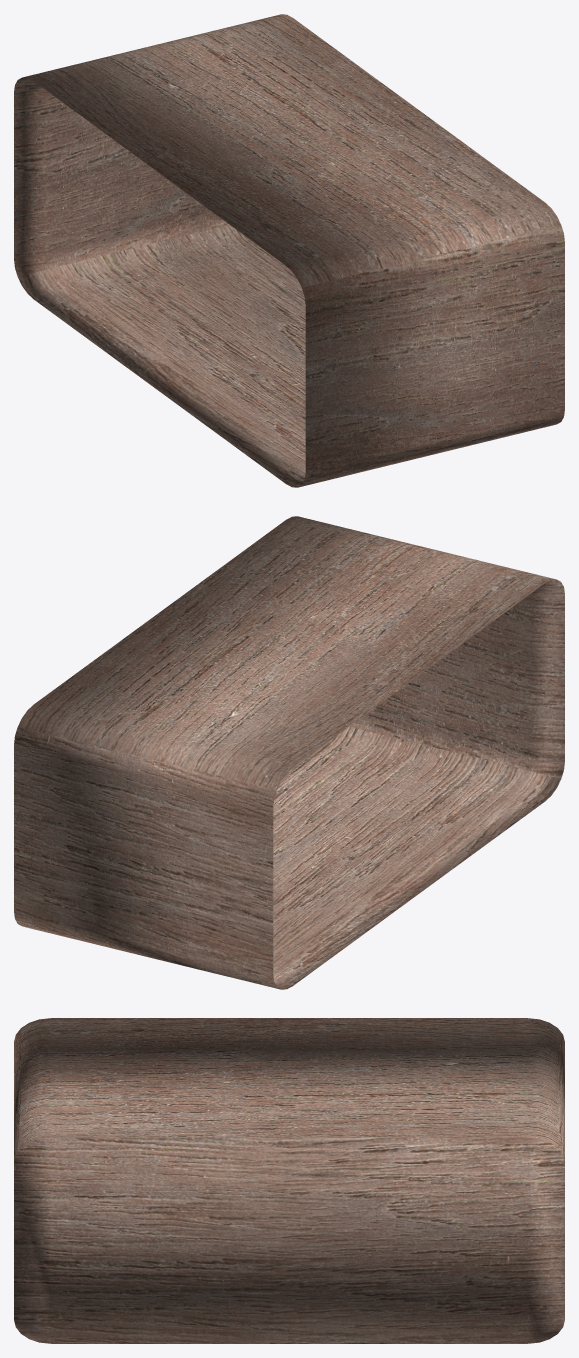
File: shelf001.glb
3 views of the same model, one above another, from view 1: azimuth 30°, elevation 25°; view 2: azimuth 150°, elevation 25°; view 3: azimuth 270°, elevation 25° (orthographic). The views are drawn at different scales.
Visible parts, largest first — view 1: Shelf001Prebake; view 2: Shelf001Prebake; view 3: Shelf001Prebake.
Part boxes in pixels (left/top/right/bottom): Shelf001Prebake: left=14, top=14, right=564, bottom=487; Shelf001Prebake: left=14, top=516, right=564, bottom=989; Shelf001Prebake: left=14, top=1018, right=564, bottom=1343.
Size of what is drawn, in the model's own units: 0.3593 by 0.289 by 0.7.
1 material, 1 textured.
